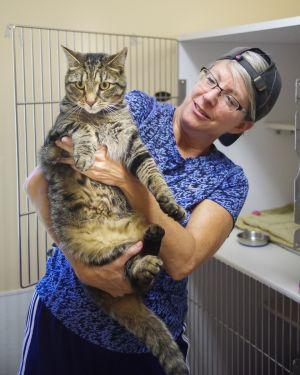bengal: (59, 40, 135, 124)
